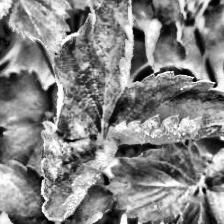Powdery Mildew Leaf: (51, 0, 134, 142), (103, 70, 224, 145), (40, 115, 120, 222), (115, 0, 189, 73), (0, 159, 49, 224)
